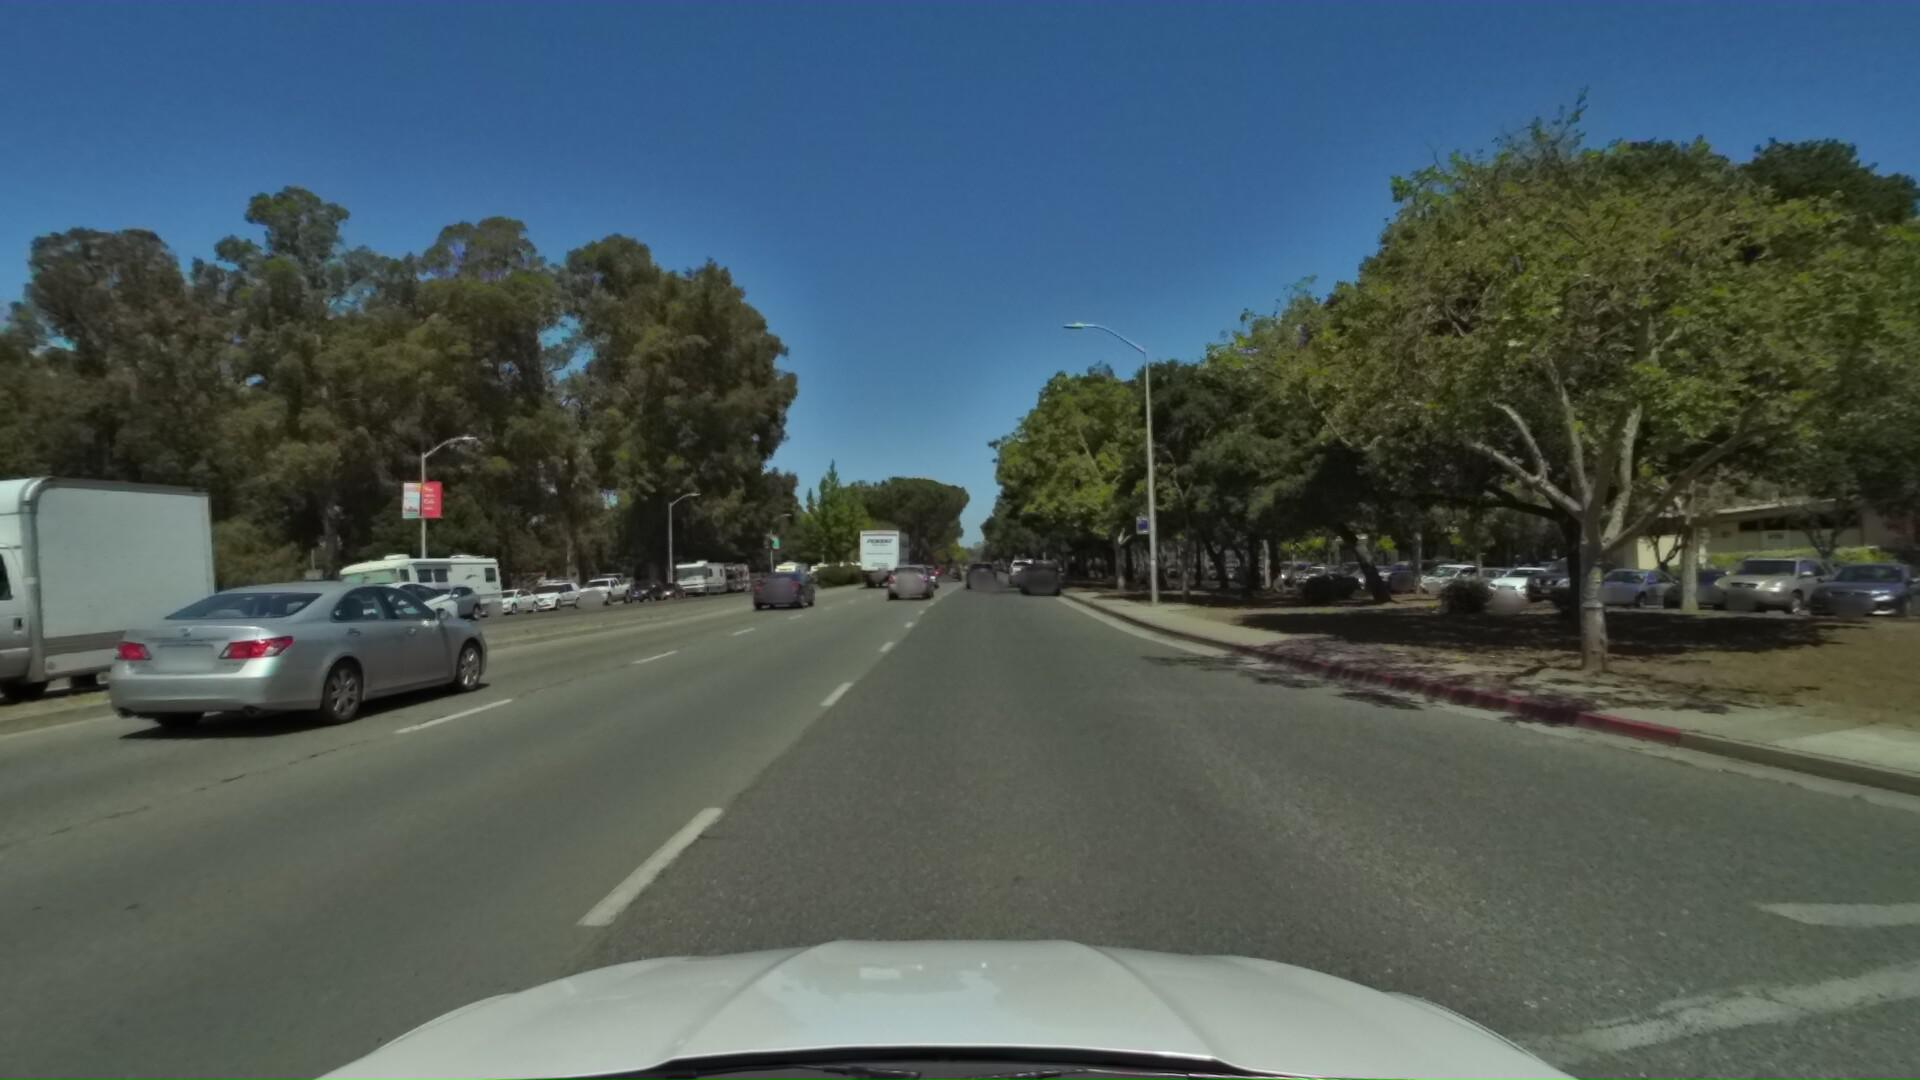car: (51, 576, 506, 765), (115, 580, 342, 676), (243, 578, 455, 673), (371, 585, 480, 630), (749, 568, 818, 612), (464, 589, 538, 625), (514, 575, 578, 615), (1013, 556, 1071, 599), (881, 564, 934, 607), (571, 575, 630, 609), (957, 559, 996, 592), (1000, 556, 1036, 587), (622, 589, 665, 611), (913, 564, 944, 589), (651, 582, 684, 603)
other_vehicle: (309, 546, 510, 641), (0, 535, 88, 715)
truck: (0, 440, 211, 771), (851, 524, 911, 588)
